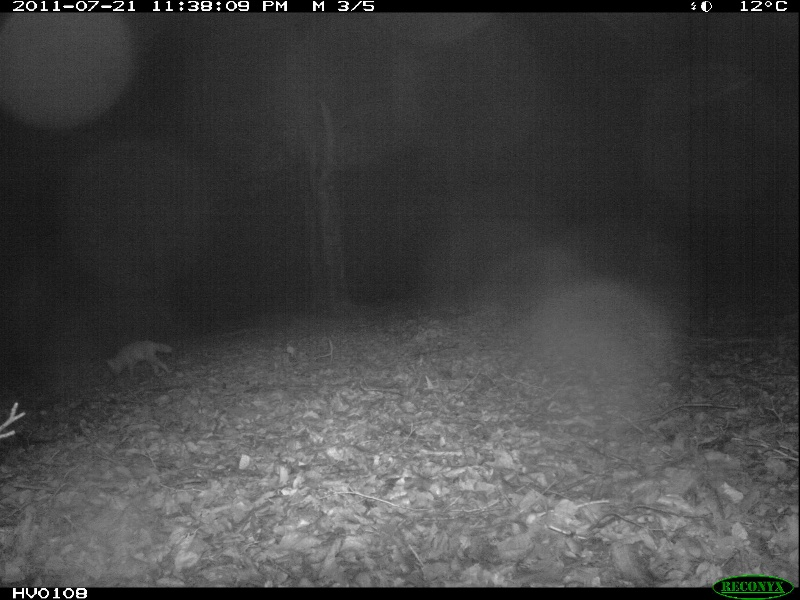fox: (106, 341, 172, 380)
